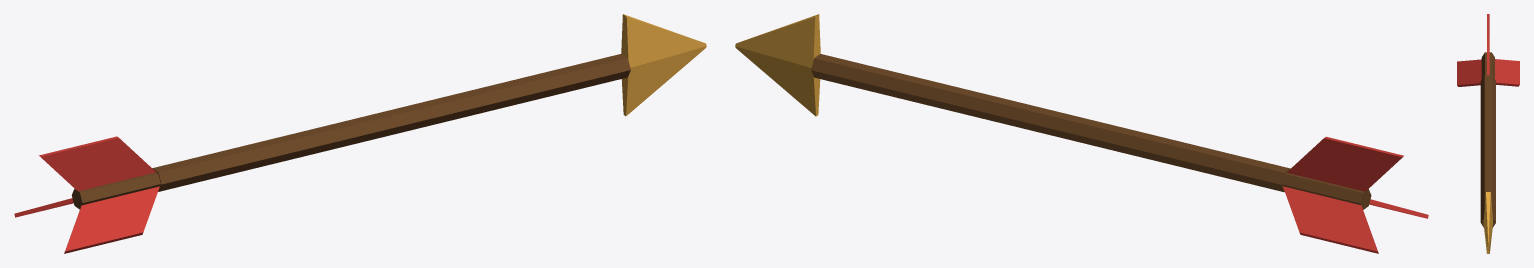
The model's file is arrow.fbx.
The picture shows the model from 3 angles, left to right: view 1: azimuth 30°, elevation 25°; view 2: azimuth 150°, elevation 25°; view 3: azimuth 270°, elevation 25°; orthographic projection. The views are drawn at different scales.
Visible parts, largest first — view 1: Cylinder; view 2: Cylinder; view 3: Cylinder.
Part boxes in pixels (x1,y1,x2,y2): Cylinder: (14,14,706,253); Cylinder: (735,14,1428,253); Cylinder: (1457,14,1519,253).
Bounding box in the file's own units: 79.22 × 11.61 × 10.46.
